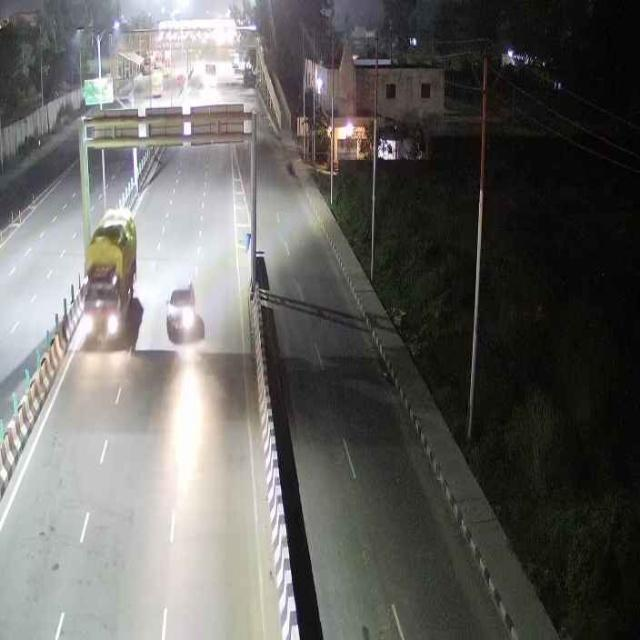car: (162, 279, 204, 345)
